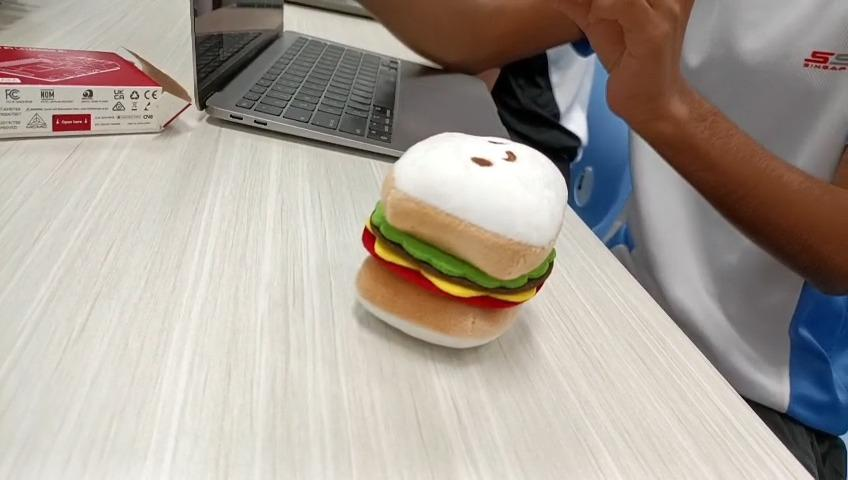objects: (353, 130, 569, 356)
